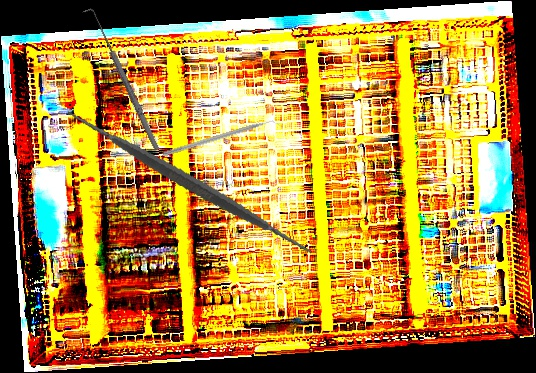Chopper: (162, 116, 282, 163)
Hook Surgical: (82, 5, 162, 154)
Spatula Surgical: (65, 58, 314, 306)
